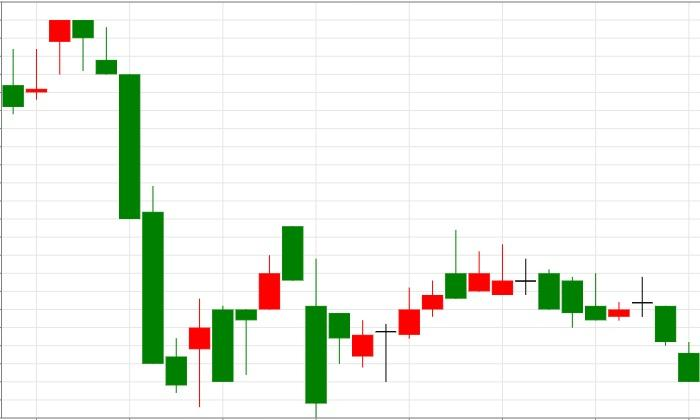evening_star_fall: (351, 230, 561, 381)
hanging_man_fall: (2, 19, 94, 115)
three_black_crows_fall: (2, 19, 141, 220)
